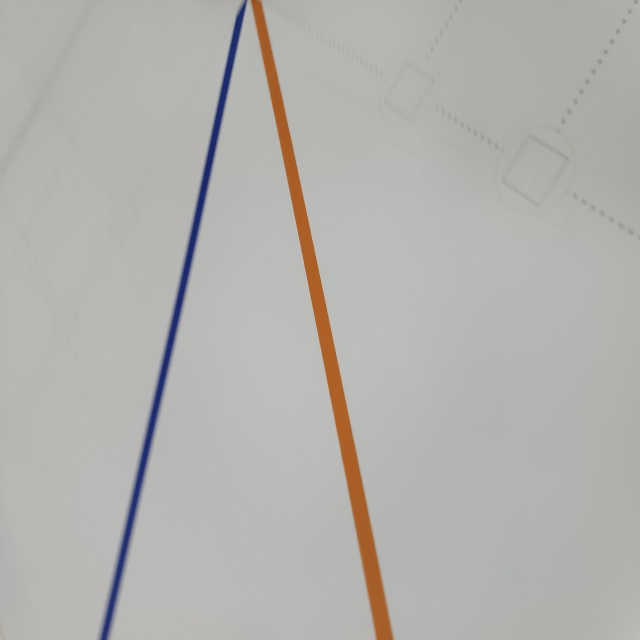blue line: (103, 0, 250, 639)
orange line: (250, 1, 394, 640)
